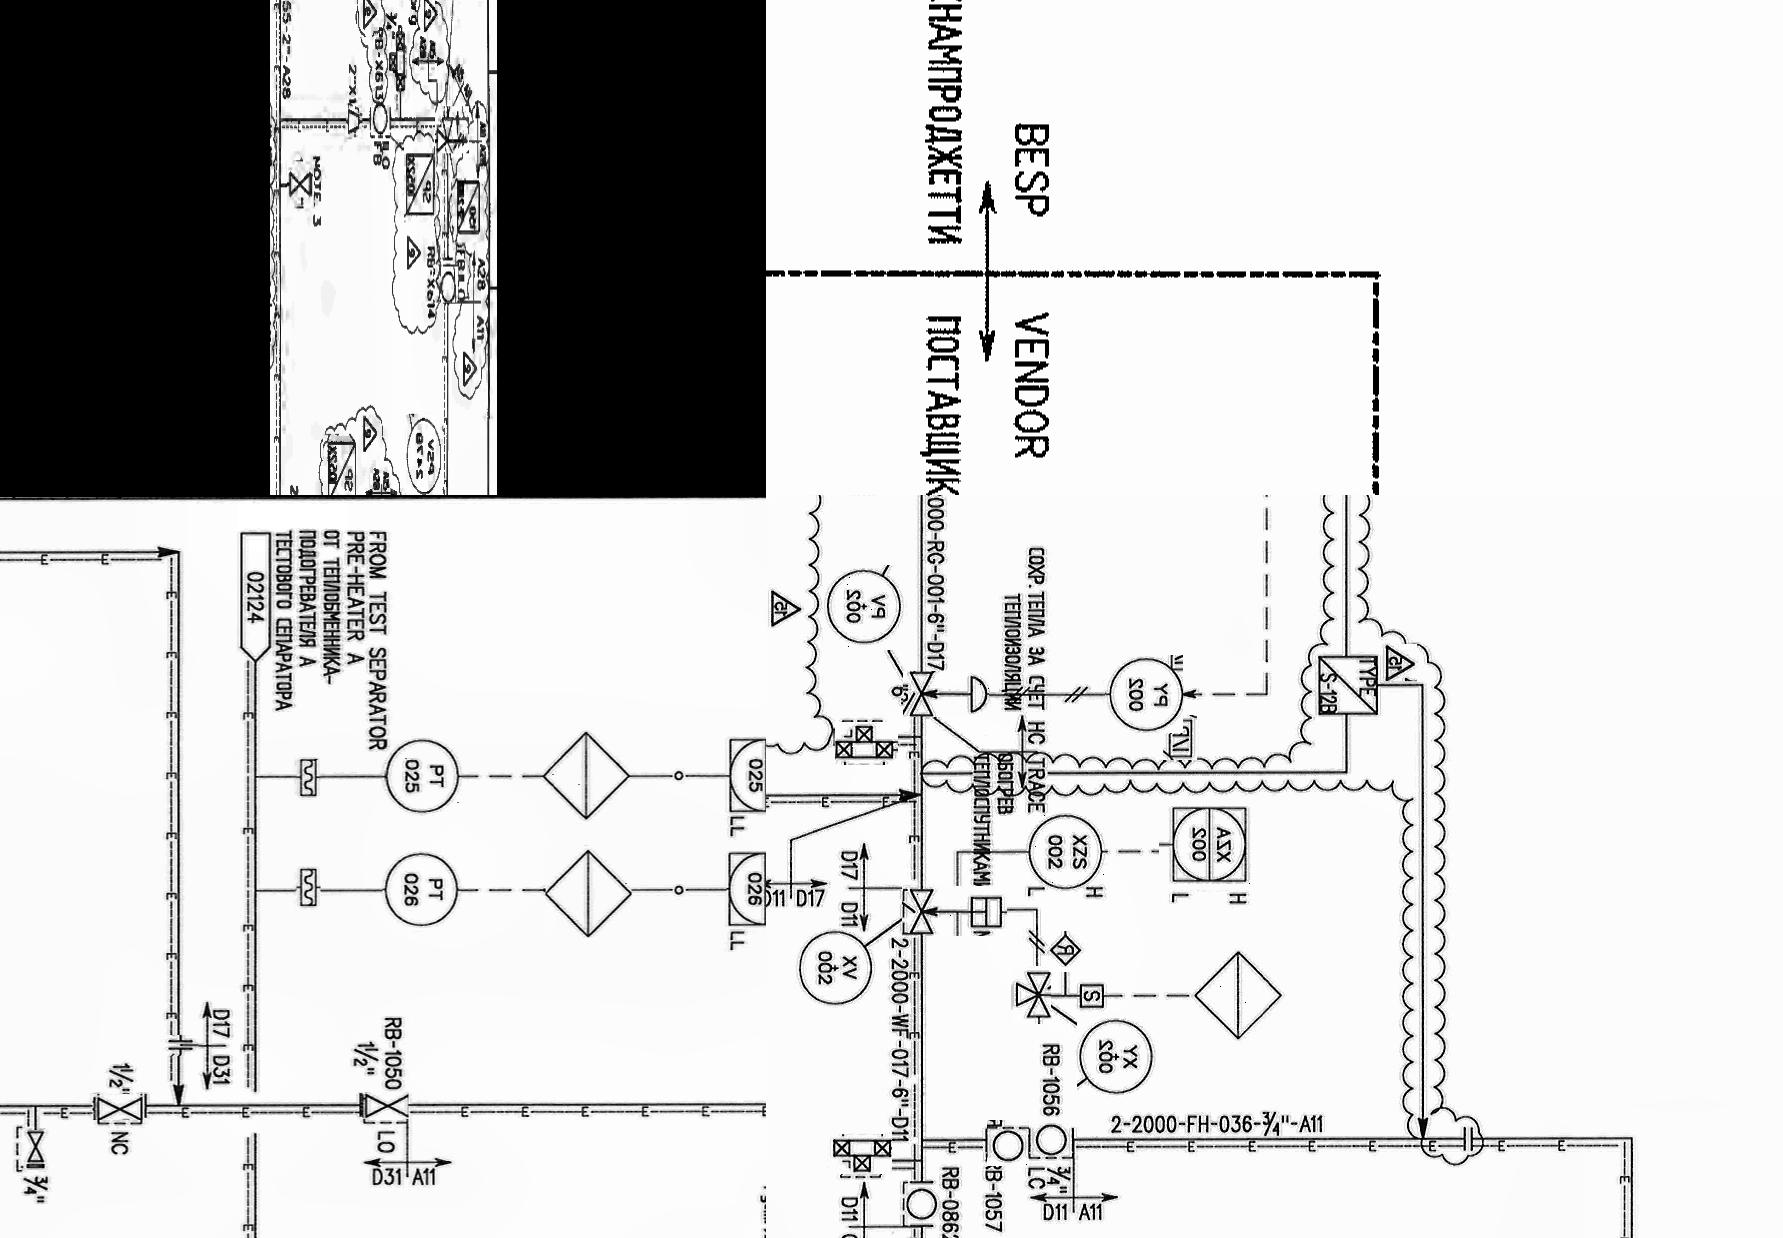2 WAY VALVE: (832, 722, 897, 765), (826, 1135, 890, 1176), (387, 22, 406, 99)
3 WAY GENERAL VALVE: (1009, 967, 1049, 1025)
ANGLE RELIEF VALVE: (435, 107, 469, 156)
CONCENTRIC REDUCER: (345, 104, 362, 140)
DCS ACCESSIBLE: (1158, 806, 1255, 890), (725, 847, 765, 931), (726, 733, 765, 815)
DIAPHRAGM ACTUATED VALVE: (902, 672, 988, 719)
DIAPHRAGM SEAL: (294, 866, 318, 916), (294, 756, 318, 799)
END FLANGED: (160, 1036, 196, 1058)
FIELD INSTRUMENT: (821, 566, 906, 652), (1076, 1012, 1158, 1098), (1024, 811, 1106, 894), (793, 931, 877, 1010), (1103, 656, 1181, 735), (383, 737, 461, 818), (382, 851, 458, 931), (404, 414, 443, 494), (1028, 1116, 1078, 1159), (986, 1120, 1028, 1166), (900, 1180, 940, 1226), (432, 264, 458, 302), (438, 261, 459, 306), (370, 99, 390, 146)
GATE VALVE: (92, 1096, 144, 1123), (286, 161, 313, 209), (359, 1093, 406, 1120), (23, 1131, 46, 1168)
HARDWIRED INTERLOCK FIELD: (1049, 932, 1085, 973)
HARDWIRED INTERLOCK PRIMARY.: (1190, 945, 1293, 1044), (542, 847, 630, 939), (542, 729, 627, 822)
IP CONVERTER: (1162, 717, 1196, 763)
PISTON ACTUATED VALVE: (901, 886, 1007, 936)
REVISION TRIANGLE: (765, 586, 802, 628), (1382, 645, 1416, 683), (355, 0, 378, 37), (416, 0, 439, 35), (404, 236, 421, 280)
SELF ACTING VALVE: (360, 406, 381, 462)
SPECIAL PIPING ITEM: (1310, 647, 1379, 721), (402, 144, 435, 223), (321, 433, 358, 494), (451, 180, 482, 245)
SPEED FLOW METER: (1073, 981, 1106, 1010)
